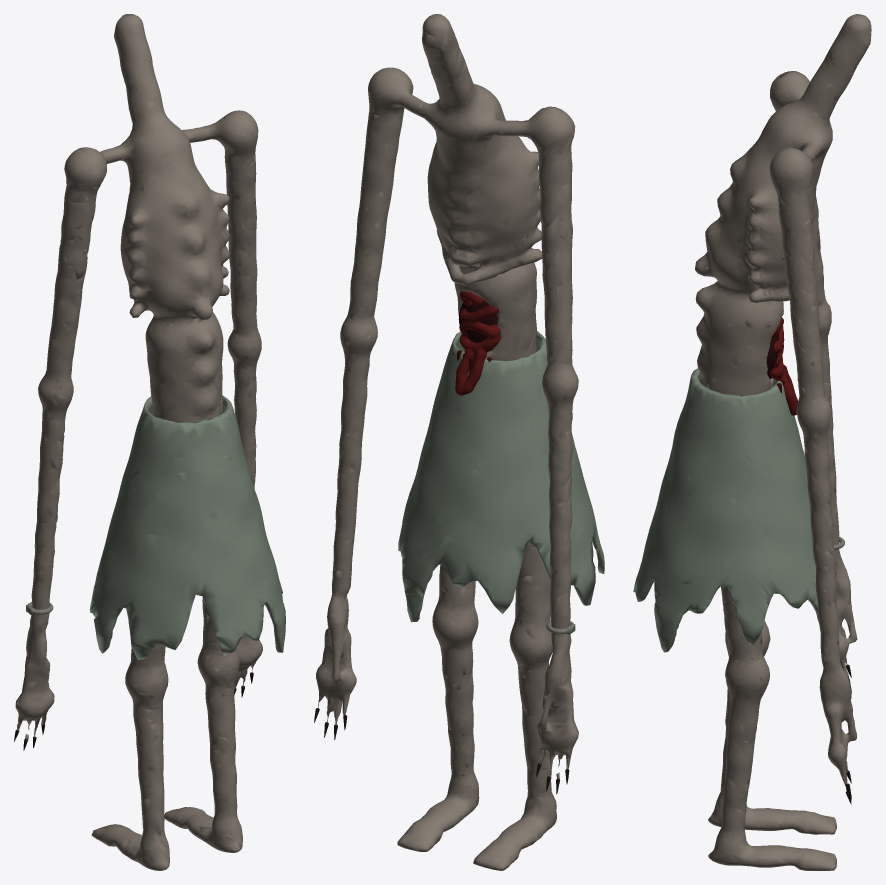
File: long_man_body.obj
The picture shows the model from 3 angles, left to right: view 1: azimuth 30°, elevation 25°; view 2: azimuth 150°, elevation 25°; view 3: azimuth 270°, elevation 25°; orthographic projection. The views are drawn at different scales.
Parts seen in each view (by area): view 1: skin, gown; view 2: skin, gown, guts; view 3: skin, gown, guts.
Part boxes in pixels (<box>): skin: <box>15,14,262,870</box>; gown: <box>89,396,285,659</box>; skin: <box>316,14,578,870</box>; gown: <box>398,331,604,622</box>; guts: <box>455,291,500,395</box>; skin: <box>695,14,871,870</box>; gown: <box>633,368,836,652</box>; guts: <box>769,318,798,415</box>.
Size of the model in its own units: 0.812 by 2.53 by 0.657.
